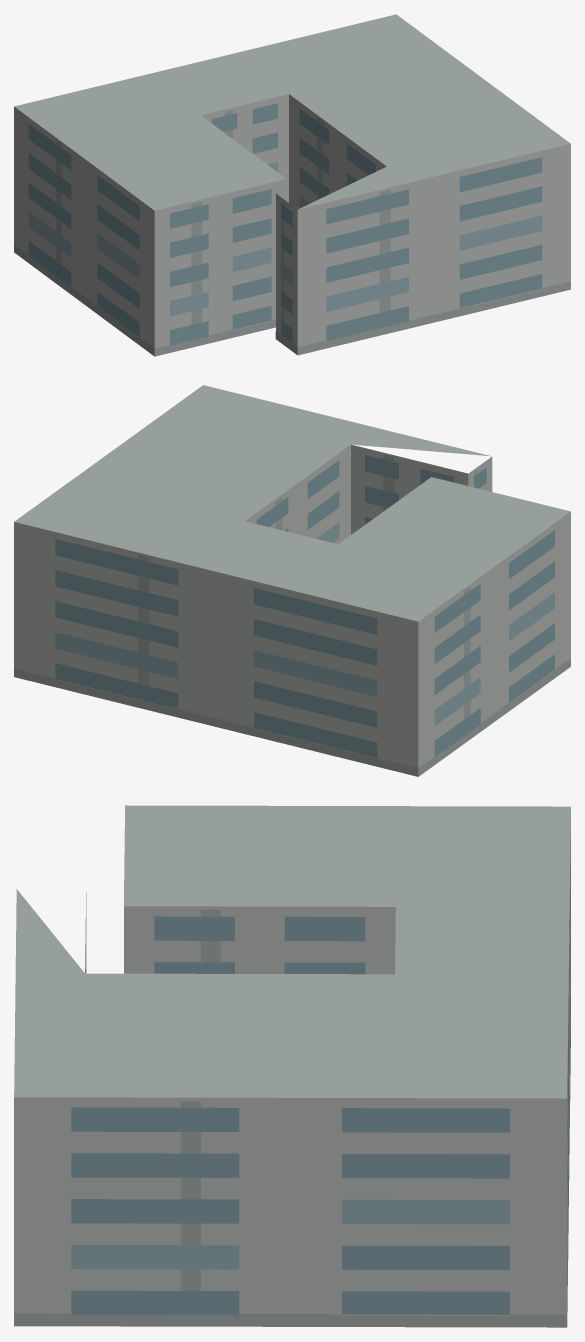
File: residential-2a19e40a-a858-43fb-9ea1-4273518c494a.glb
The picture shows the model from 3 angles, top to bottom: view 1: azimuth 30°, elevation 25°; view 2: azimuth 150°, elevation 25°; view 3: azimuth 270°, elevation 25°; orthographic projection. The views are drawn at different scales.
Parts seen in each view (by area): view 1: residential-2a19e40a-a858-43fb-9ea1-4273518c494a.tmp; view 2: residential-2a19e40a-a858-43fb-9ea1-4273518c494a.tmp; view 3: residential-2a19e40a-a858-43fb-9ea1-4273518c494a.tmp.
Part boxes in pixels (x1,y1,x2,y2): residential-2a19e40a-a858-43fb-9ea1-4273518c494a.tmp: (14,14,570,356); residential-2a19e40a-a858-43fb-9ea1-4273518c494a.tmp: (14,385,570,776); residential-2a19e40a-a858-43fb-9ea1-4273518c494a.tmp: (14,805,570,1327).
Size of the model in its own units: 41.86 by 15.25 by 33.62.
